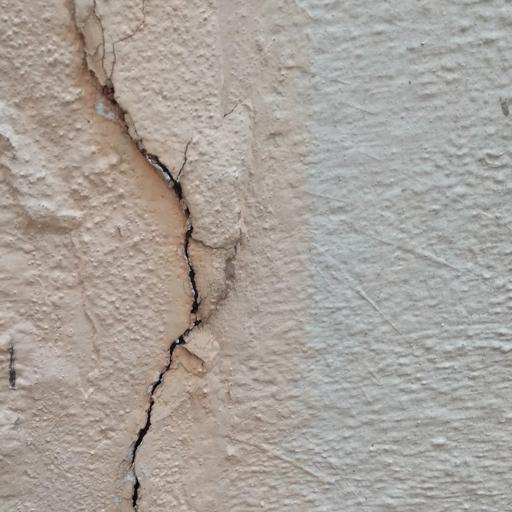major_crack: (57, 0, 219, 512)
